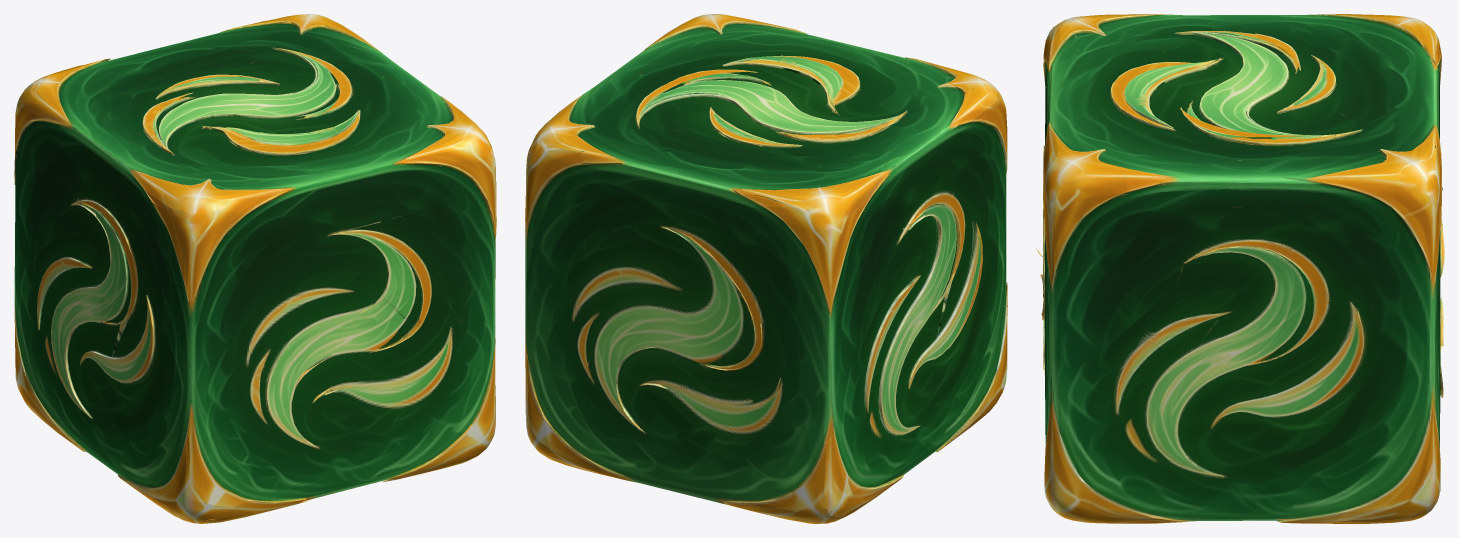
File: Dé vent v.1.glb
The picture shows the model from 3 angles, left to right: view 1: azimuth 30°, elevation 25°; view 2: azimuth 150°, elevation 25°; view 3: azimuth 270°, elevation 25°; orthographic projection. The views are drawn at different scales.
Visible parts, largest first — view 1: output_unwrapped; view 2: output_unwrapped; view 3: output_unwrapped.
Boxes of the visible parts, <box> form: output_unwrapped: <box>14,14,496,523</box>; output_unwrapped: <box>525,14,1007,523</box>; output_unwrapped: <box>1036,14,1444,523</box>.
Size of the model in its own units: 1.9 by 1.9 by 1.93.
Materials: 1 (1 with a texture image).
